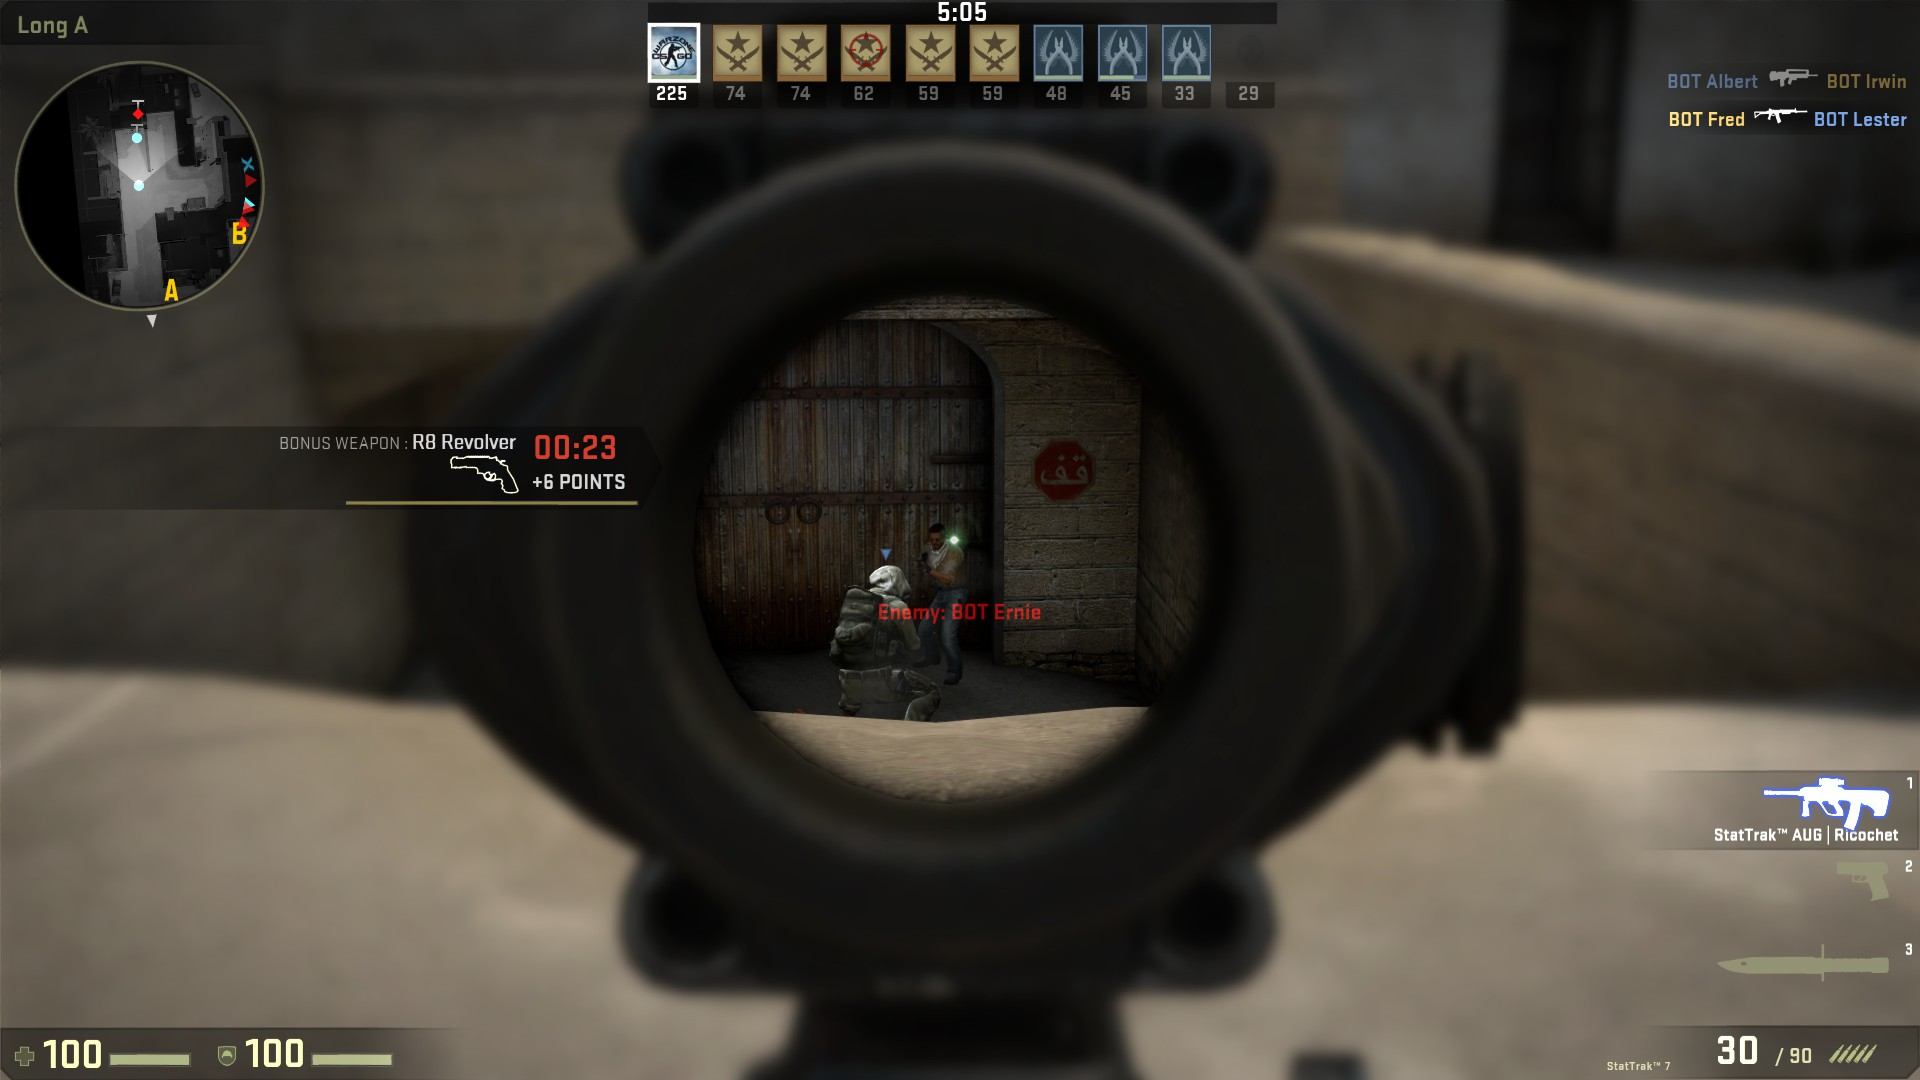c: (828, 559, 942, 723)
ch: (861, 562, 914, 599)
t: (911, 518, 965, 680)
th: (924, 520, 949, 551)
